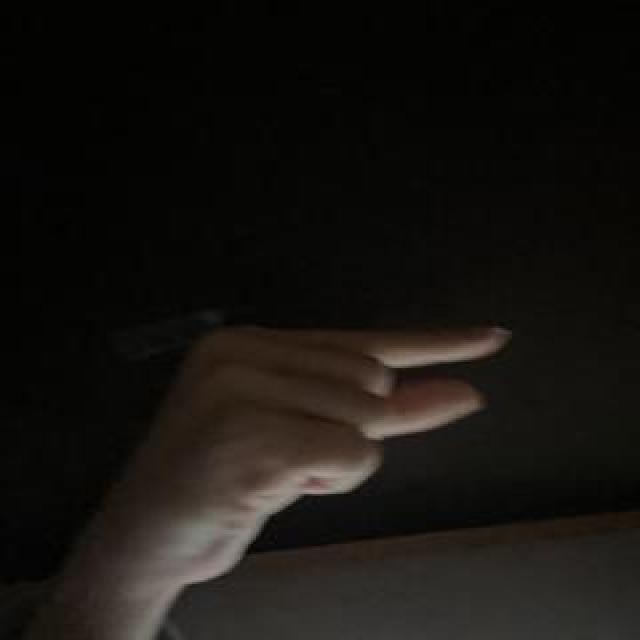G: (100, 321, 511, 591)
